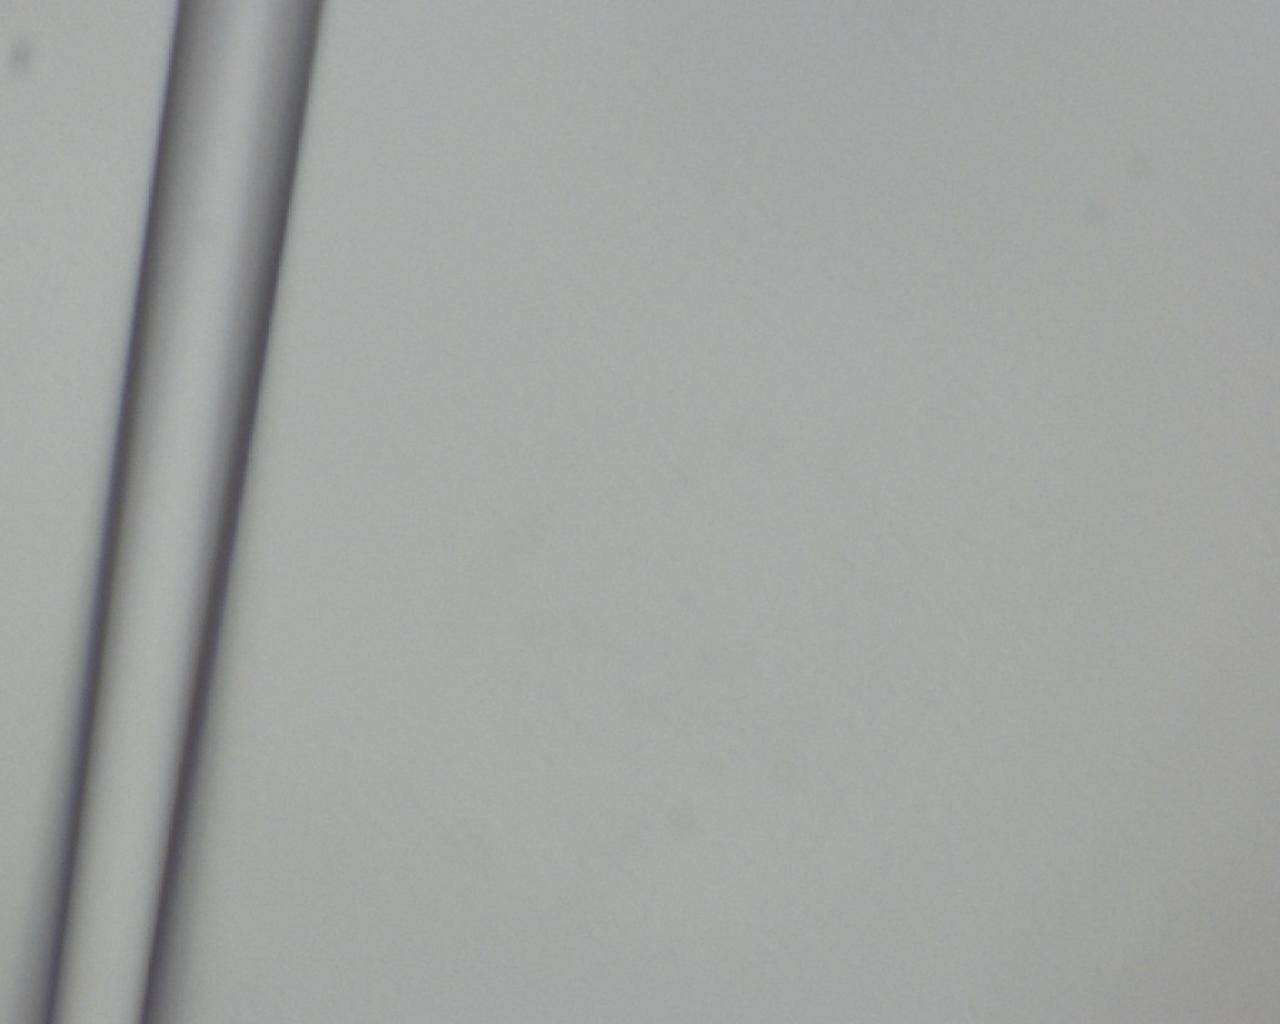fiber: (158, 552, 179, 1024), (968, 552, 986, 1024)
